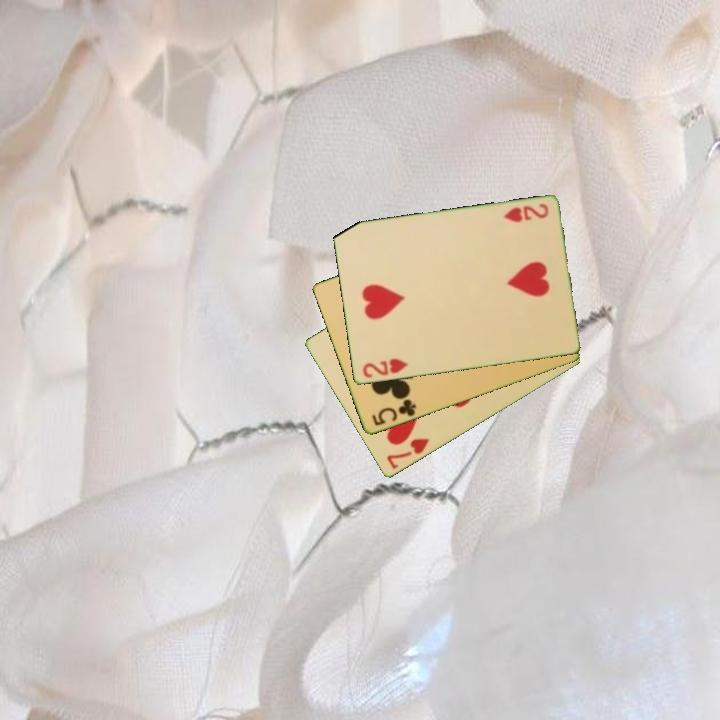2h: (359, 355, 410, 381), (500, 200, 551, 226)
5c: (368, 396, 419, 429)
7h: (383, 435, 433, 472)
